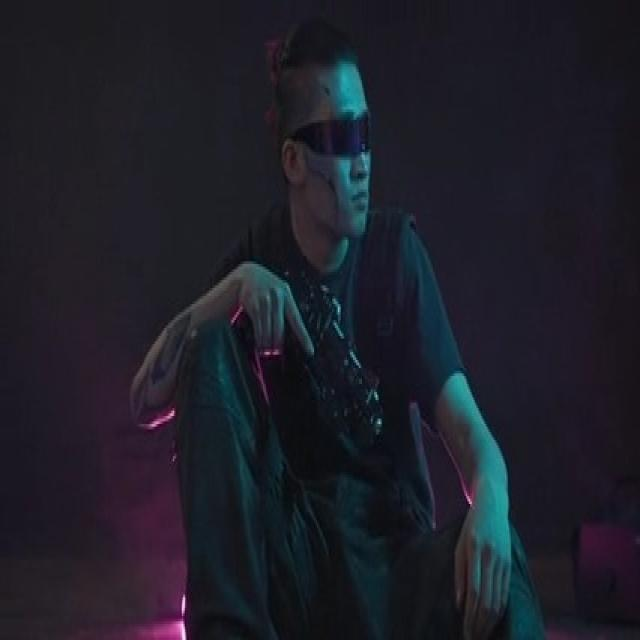Gun_Holder: (248, 274, 406, 463)
Person: (128, 0, 552, 640)
